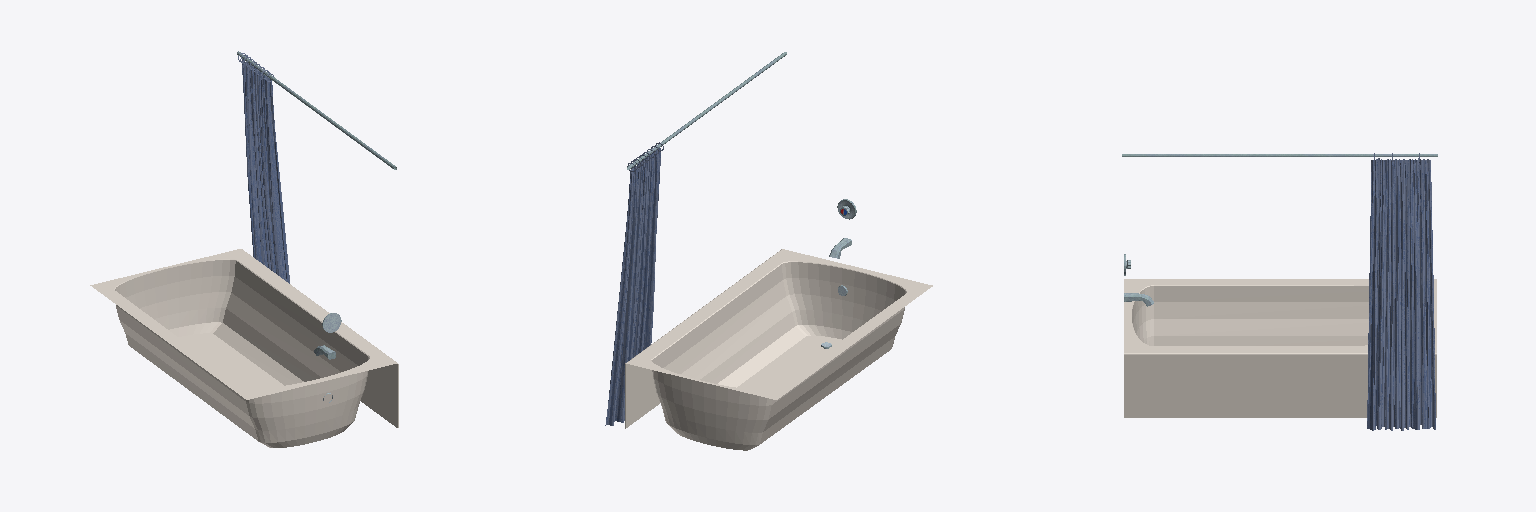
3 renders of one model, left to right at view 1: azimuth 30°, elevation 25°; view 2: azimuth 150°, elevation 25°; view 3: azimuth 270°, elevation 25°, orthographic.
Visible parts, largest first — view 1: bathtub_01, bathtub_01_bar_curtain, bathtub_01_bar; view 2: bathtub_01, bathtub_01_bar_curtain, bathtub_01_bar; view 3: bathtub_01, bathtub_01_bar_curtain, bathtub_01_bar.
Boxes of the visible parts, x1=… form: bathtub_01: x1=90, y1=249, x2=398, y2=447; bathtub_01_bar_curtain: x1=238, y1=53, x2=289, y2=283; bathtub_01_bar: x1=237, y1=51, x2=396, y2=169; bathtub_01: x1=625, y1=249, x2=932, y2=450; bathtub_01_bar_curtain: x1=605, y1=142, x2=663, y2=425; bathtub_01_bar: x1=627, y1=52, x2=786, y2=169; bathtub_01: x1=1124, y1=279, x2=1436, y2=417; bathtub_01_bar_curtain: x1=1367, y1=153, x2=1435, y2=430; bathtub_01_bar: x1=1122, y1=154, x2=1437, y2=156.
Bounding box in the file's own units: 1.32 × 1.92 × 2.06.
Materials: 7 (7 with a texture image).